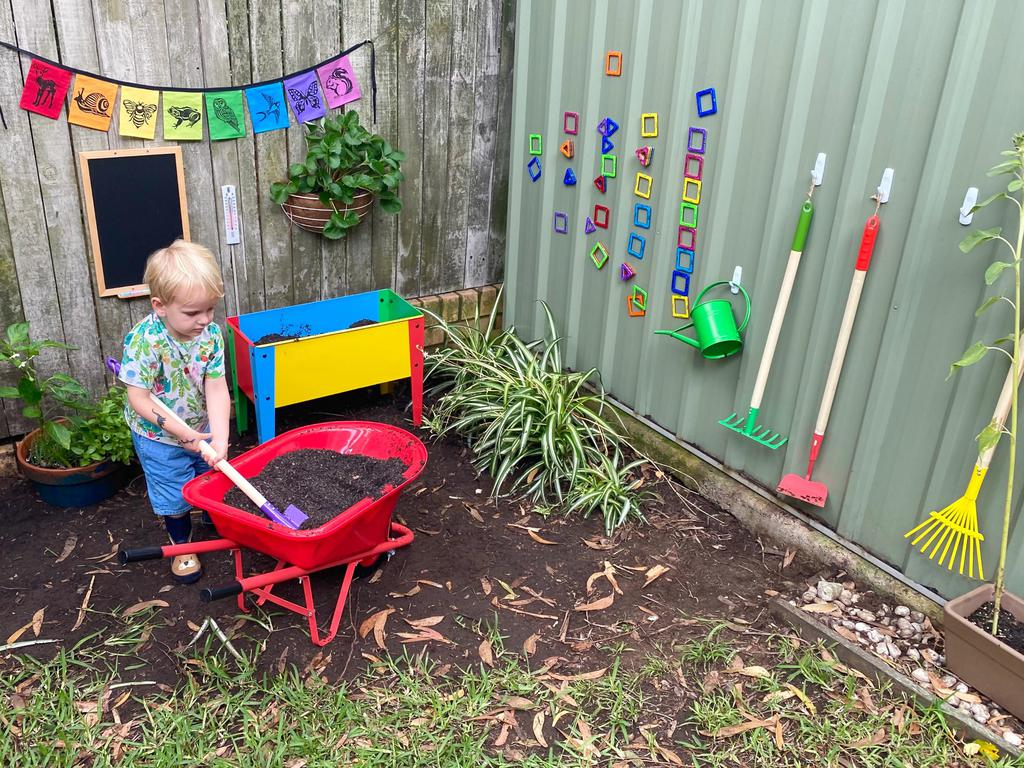child: (100, 236, 255, 572)
